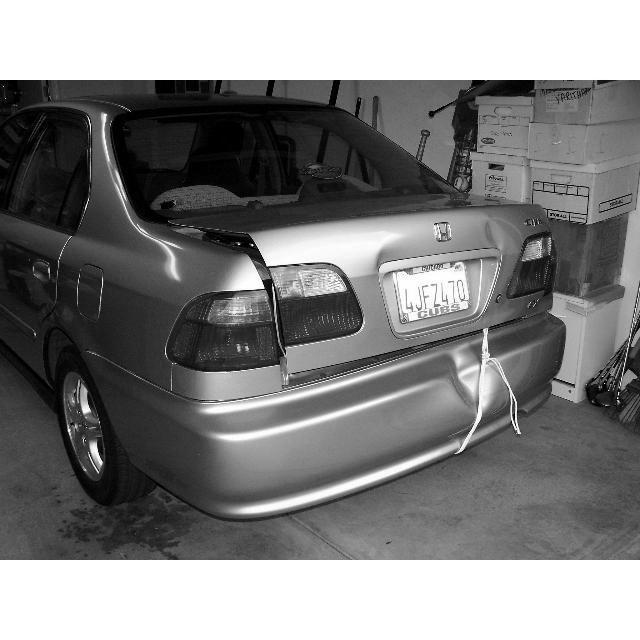boot-dent: (230, 215, 526, 347)
rear-bumper-dent: (287, 331, 565, 466)
